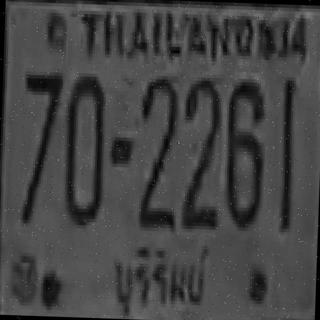N00: (62, 72, 104, 222)
N01: (277, 77, 295, 229)
N02: (179, 75, 220, 228), (137, 74, 178, 226)
N06: (223, 75, 265, 224)
N07: (18, 68, 61, 221), (20, 68, 61, 174)
P06: (108, 240, 210, 316)
